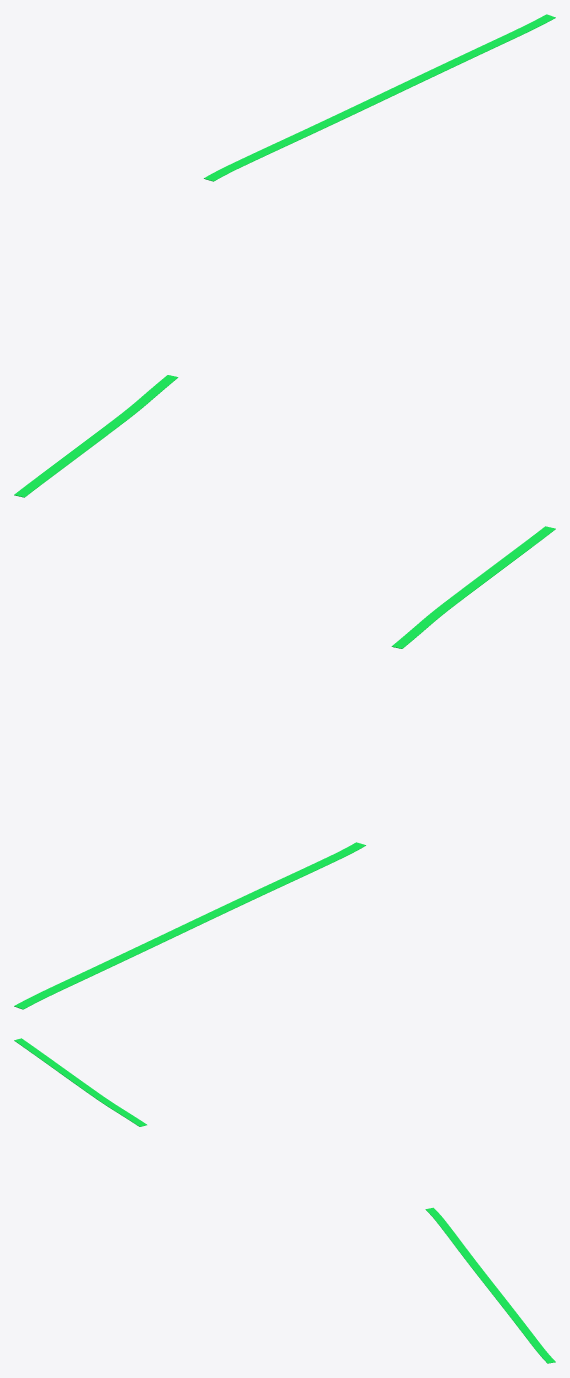
The model's file is SpaDrs.glb.
3 views of the same model, one above another, from view 1: azimuth 30°, elevation 25°; view 2: azimuth 210°, elevation 25°; view 3: azimuth 270°, elevation 25° (orthographic). The views are drawn at different scales.
Visible parts, largest first — view 1: DrsStrip_1, DrsStrip_2; view 2: DrsStrip_1, DrsStrip_2; view 3: DrsStrip_1, DrsStrip_2.
Boxes of the visible parts, x1=… form: DrsStrip_1: x1=204, y1=14, x2=555, y2=181; DrsStrip_2: x1=14, y1=375, x2=178, y2=497; DrsStrip_1: x1=14, y1=842, x2=365, y2=1009; DrsStrip_2: x1=391, y1=526, x2=555, y2=648; DrsStrip_1: x1=425, y1=1207, x2=555, y2=1363; DrsStrip_2: x1=14, y1=1038, x2=146, y2=1126.
Bounding box in the file's own units: 11.99 × 0.006 × 8.45.
